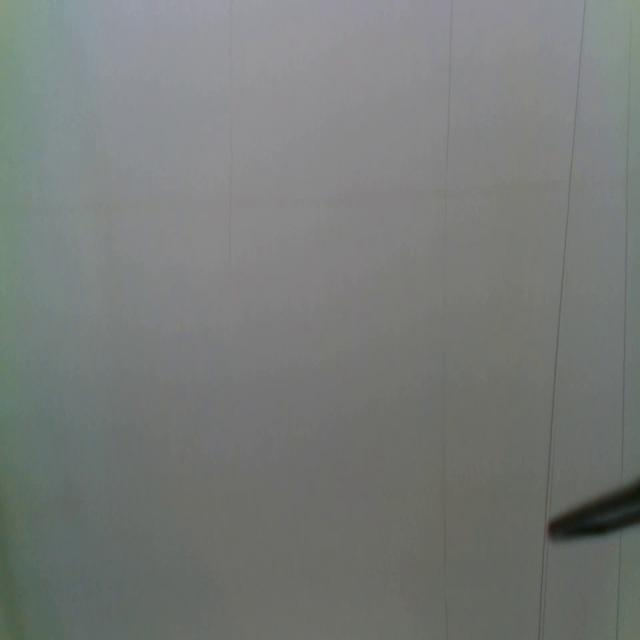color bleeding: (0, 166, 640, 227)
crease: (545, 0, 588, 502), (440, 1, 456, 636), (620, 2, 634, 478), (226, 0, 235, 271), (536, 531, 548, 638), (614, 533, 624, 640)
